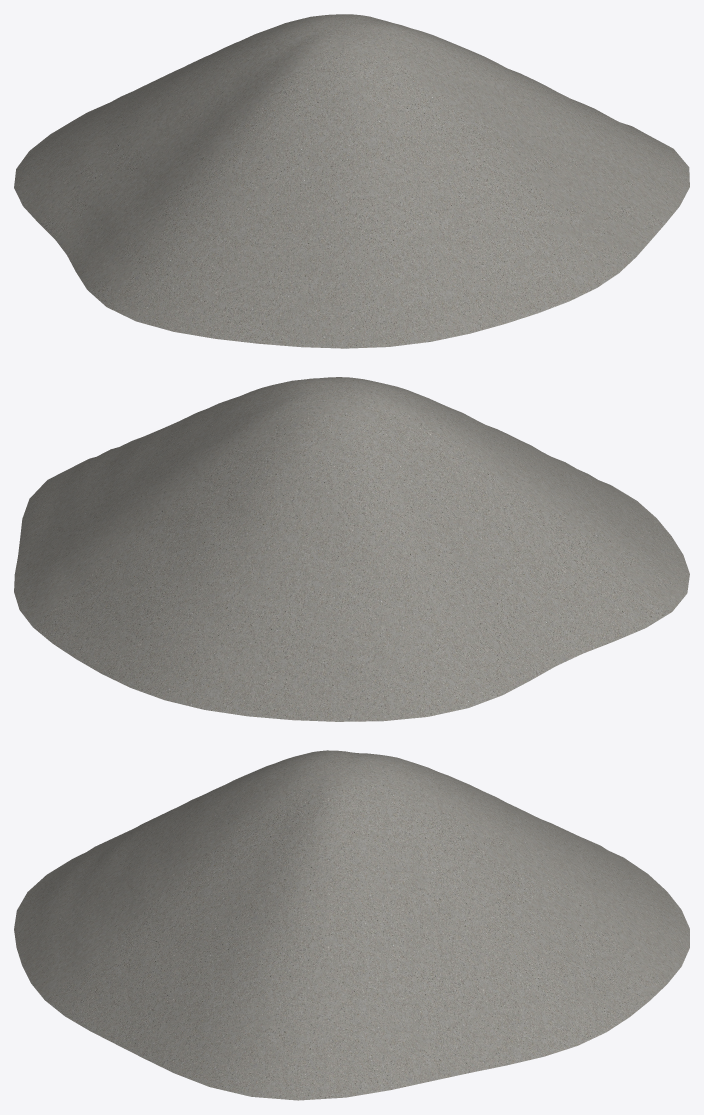
File: PAV-BAS-002.glb
3 views of the same model, one above another, from view 1: azimuth 30°, elevation 25°; view 2: azimuth 150°, elevation 25°; view 3: azimuth 270°, elevation 25° (orthographic). The views are drawn at different scales.
Parts seen in each view (by area): view 1: PAV-BAS-002_monte; view 2: PAV-BAS-002_monte; view 3: PAV-BAS-002_monte.
Boxes of the visible parts, bbox=[...] form: PAV-BAS-002_monte: bbox=[14, 14, 689, 348]; PAV-BAS-002_monte: bbox=[14, 377, 689, 721]; PAV-BAS-002_monte: bbox=[14, 750, 689, 1100].
Size of the model in its own units: 1.8 by 0.5235 by 1.75.
Materials: 1 (1 with a texture image).
